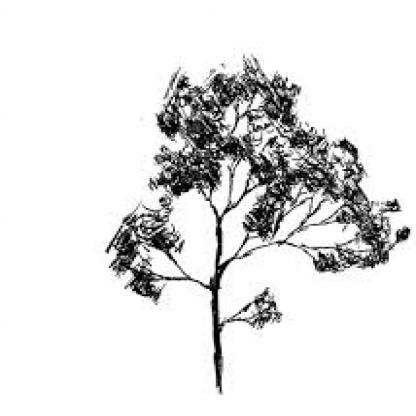branch_line: (190, 100, 358, 275)
crown_dizzy: (101, 56, 412, 302)
trunk_straight: (209, 337, 230, 378)
